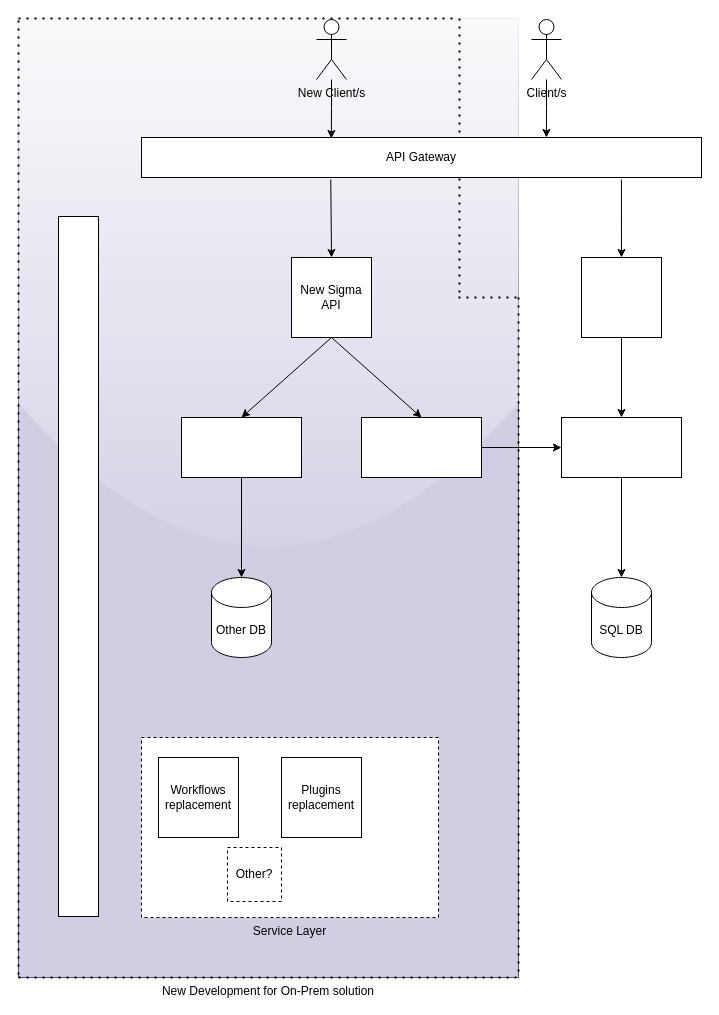
The diagram is 719 pixels wide and 1015 high, and some of its shapes have lost their labels. The shapes that lost their labels are listed below. From the top down, each one's centre as x and y in pixels, then its label:
the point at 621,297: Sigma API
the point at 241,447: Other DB API
the point at 421,447: CRM Support API
the point at 621,447: Dynamics API
the point at 78,566: Event Bus (Message Queue)
